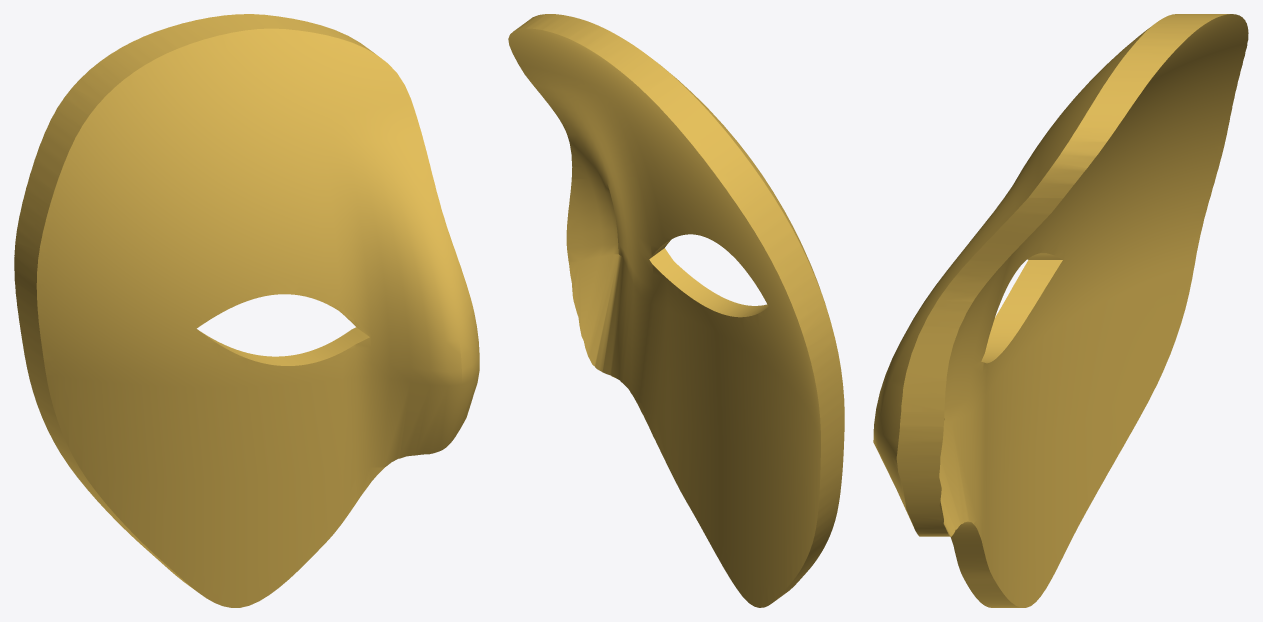
Rendered from 04-masque-robot.glb.
The picture shows the model from 3 angles, left to right: view 1: azimuth 30°, elevation 25°; view 2: azimuth 150°, elevation 25°; view 3: azimuth 270°, elevation 25°; orthographic projection. The views are drawn at different scales.
Parts seen in each view (by area): view 1: masque-fantome; view 2: masque-fantome; view 3: masque-fantome.
Part boxes in pixels (box(x1,y1,x2,y2)): masque-fantome: box(14, 14, 479, 607); masque-fantome: box(508, 14, 844, 607); masque-fantome: box(873, 14, 1248, 607).
Size of the model in its own units: 0.4719 by 0.7021 by 0.3908.
